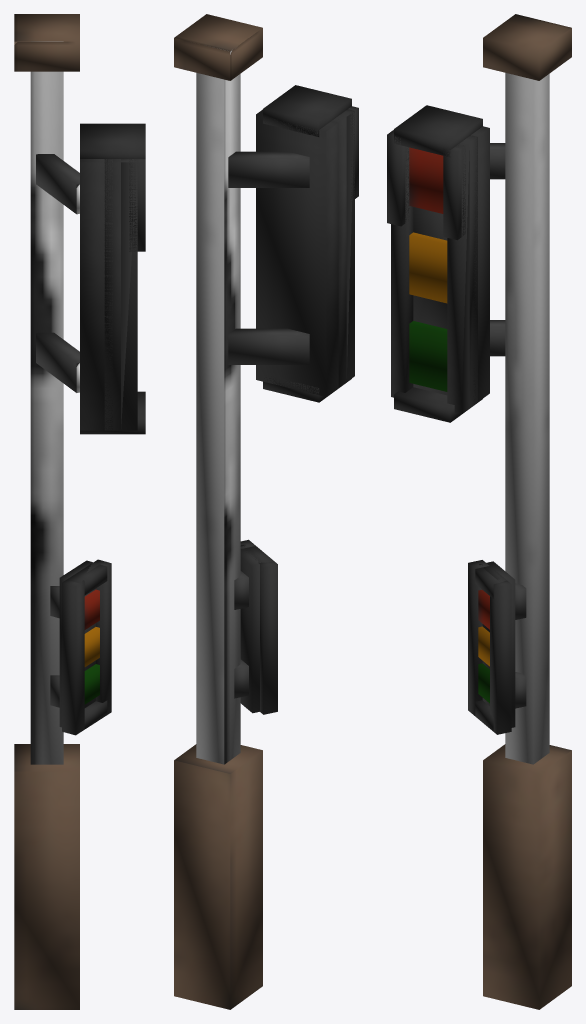
File: model_feu.obj
The picture shows the model from 3 angles, left to right: view 1: azimuth 90°, elevation 25°; view 2: azimuth 150°, elevation 25°; view 3: azimuth 330°, elevation 25°; orthographic projection.
Visible parts, largest first — view 1: default, lights; view 2: default; view 3: default, lights.
Part boxes in pixels (x1,y1,x2,y2): default: (14, 14, 145, 1009); lights: (84, 589, 99, 704); default: (174, 14, 358, 1009); default: (387, 14, 571, 1009); lights: (409, 147, 489, 703).
Size of the model in its own units: 0.5313 by 4.06 by 0.5.
2 materials, 2 textured.
